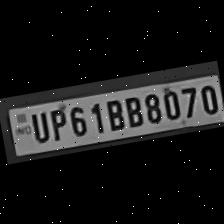0: (195, 81, 220, 116), (159, 86, 182, 122)
1: (84, 99, 107, 135)
6: (64, 101, 90, 139)
7: (176, 84, 200, 120)
8: (139, 88, 164, 126)
B: (100, 95, 127, 133), (120, 92, 146, 129)
P: (44, 104, 70, 142)
U: (25, 108, 50, 144)
